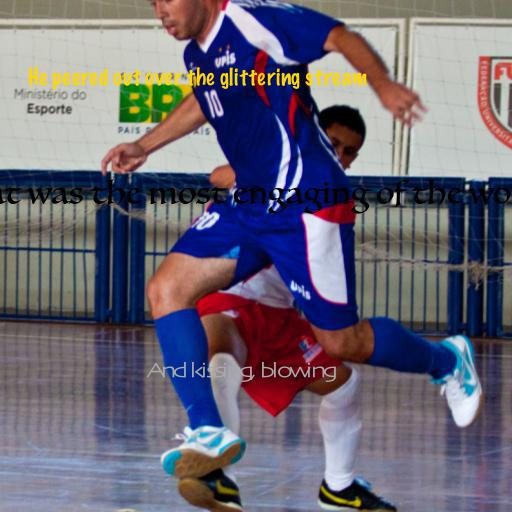Luminari: (0, 179, 512, 214)
Marker Felt: (27, 67, 367, 90)
Skia: (146, 361, 334, 382)
